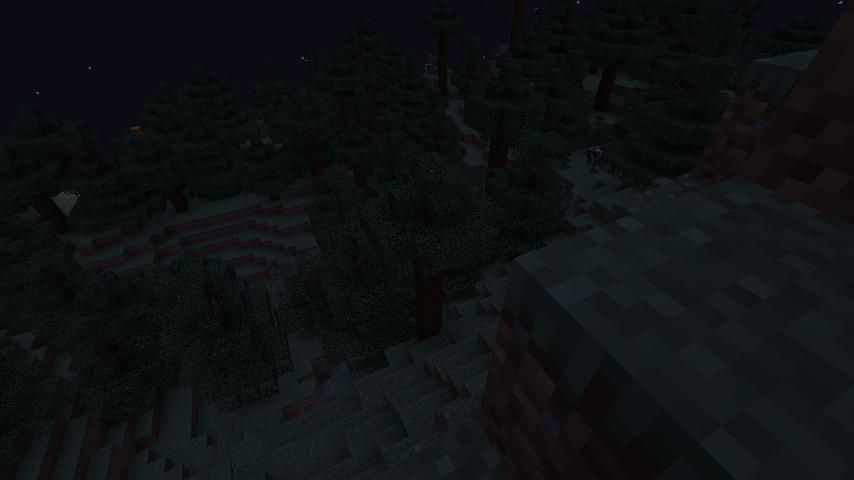cow: (585, 145, 606, 168)
